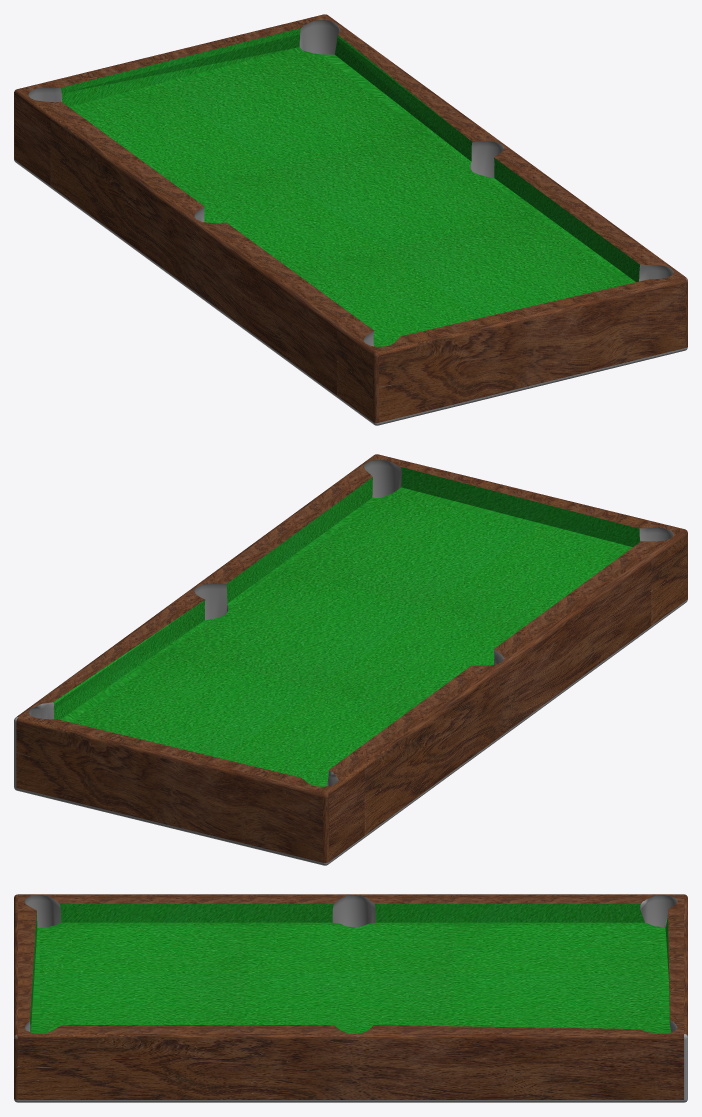
The model's file is Table.FBX.
3 renders of one model, top to bottom at view 1: azimuth 30°, elevation 25°; view 2: azimuth 150°, elevation 25°; view 3: azimuth 270°, elevation 25°, orthographic. The views are drawn at different scales.
Parts seen in each view (by area): view 1: Box001; view 2: Box001; view 3: Box001.
Boxes of the visible parts, left/top/right/bottom form: Box001: left=14, top=14, right=687, bottom=425; Box001: left=14, top=454, right=687, bottom=865; Box001: left=14, top=894, right=687, bottom=1102.
Bounding box in the file's own units: 50 × 11.15 × 100.
